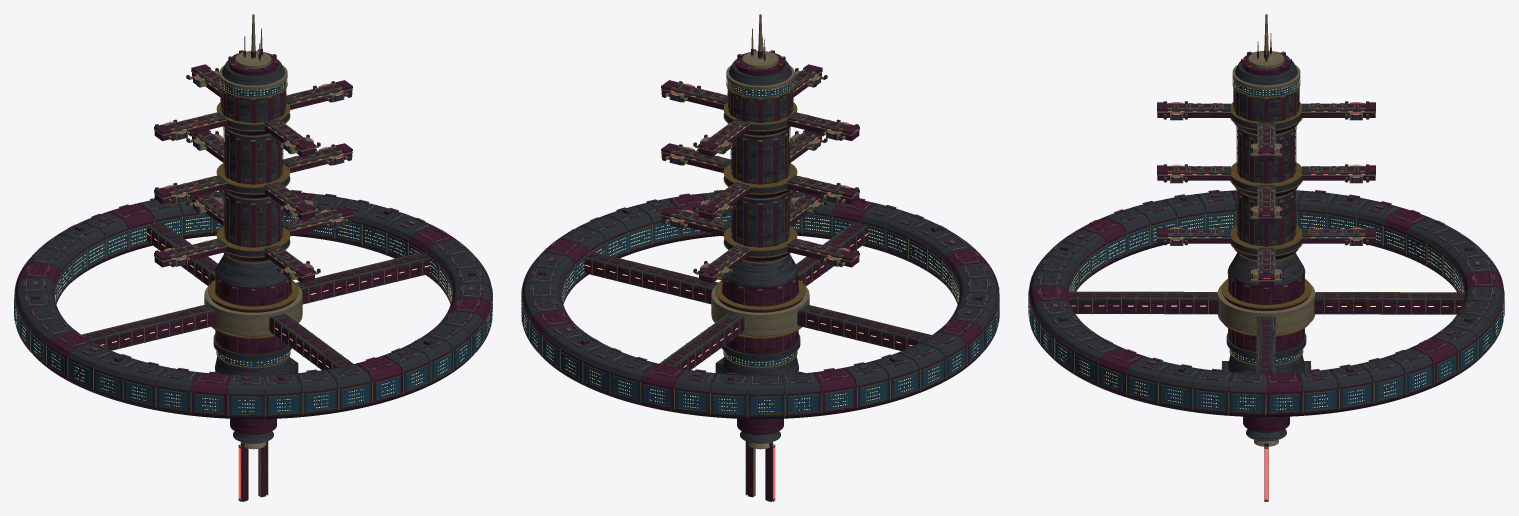
File: meridian_blackwake_syndicate.glb
The picture shows the model from 3 angles, left to right: view 1: azimuth 30°, elevation 25°; view 2: azimuth 150°, elevation 25°; view 3: azimuth 270°, elevation 25°; orthographic projection.
Parts seen in each view (by area): view 1: Habitat_Meridian_Pearl, Habitat_Meridian_Navy, Tower_Meridian_Navy, Tower_Meridian_Pearl, Habitat_Meridian_Glass, Habitat_Meridian_Silver, Tower_Meridian_Silver, Tower_Meridian_Champagne, Habitat_Meridian_Champagne, Tower_Meridian_Glass, Detail_fixed_Meridian_Silver, Habitat_Meridian_CoolWindows (+2 smaller); view 2: Habitat_Meridian_Pearl, Habitat_Meridian_Navy, Tower_Meridian_Navy, Tower_Meridian_Pearl, Habitat_Meridian_Glass, Habitat_Meridian_Silver, Tower_Meridian_Silver, Tower_Meridian_Champagne, Habitat_Meridian_Champagne, Tower_Meridian_Glass, Detail_fixed_Meridian_Silver, Habitat_Meridian_CoolWindows (+2 smaller); view 3: Habitat_Meridian_Pearl, Habitat_Meridian_Navy, Tower_Meridian_Pearl, Tower_Meridian_Navy, Habitat_Meridian_Glass, Habitat_Meridian_Silver, Tower_Meridian_Champagne, Tower_Meridian_Silver, Habitat_Meridian_Champagne, Detail_fixed_Meridian_Silver, Tower_Meridian_Glass, Habitat_Meridian_CoolWindows (+2 smaller).
Part boxes in pixels (x1,y1,x2,y2): Habitat_Meridian_Pearl: (15,190,491,419); Habitat_Meridian_Navy: (14,189,492,418); Tower_Meridian_Navy: (154,49,352,501); Tower_Meridian_Pearl: (155,59,352,443); Habitat_Meridian_Glass: (14,213,492,414); Habitat_Meridian_Silver: (14,190,492,416); Tower_Meridian_Silver: (154,14,352,501); Tower_Meridian_Champagne: (169,70,342,368); Habitat_Meridian_Champagne: (14,212,492,417); Tower_Meridian_Glass: (179,79,341,366); Detail_fixed_Meridian_Silver: (164,68,342,270); Habitat_Meridian_CoolWindows: (15,216,492,411); Habitat_Meridian_Pearl: (522,190,998,419); Habitat_Meridian_Navy: (521,189,999,416); Tower_Meridian_Navy: (661,47,859,501); Tower_Meridian_Pearl: (661,59,858,443); Habitat_Meridian_Glass: (521,213,999,414); Habitat_Meridian_Silver: (521,190,999,416); Tower_Meridian_Silver: (661,14,859,501); Tower_Meridian_Champagne: (671,70,844,368); Habitat_Meridian_Champagne: (521,212,999,417); Tower_Meridian_Glass: (672,79,834,366); Detail_fixed_Meridian_Silver: (671,68,849,270); Habitat_Meridian_CoolWindows: (521,216,997,411); Habitat_Meridian_Pearl: (1029,190,1503,416); Habitat_Meridian_Navy: (1029,190,1503,416); Tower_Meridian_Pearl: (1157,61,1375,441); Tower_Meridian_Navy: (1157,47,1375,501); Habitat_Meridian_Glass: (1028,212,1504,412); Habitat_Meridian_Silver: (1028,190,1504,414); Tower_Meridian_Champagne: (1167,77,1365,365); Tower_Meridian_Silver: (1157,14,1375,501); Habitat_Meridian_Champagne: (1028,201,1504,415); Detail_fixed_Meridian_Silver: (1168,89,1364,273); Tower_Meridian_Glass: (1173,80,1359,364); Habitat_Meridian_CoolWindows: (1028,215,1503,409).
Bounding box in the file's own units: 1809 × 2016 × 1809.
Materials: 10 (5 with a texture image).
